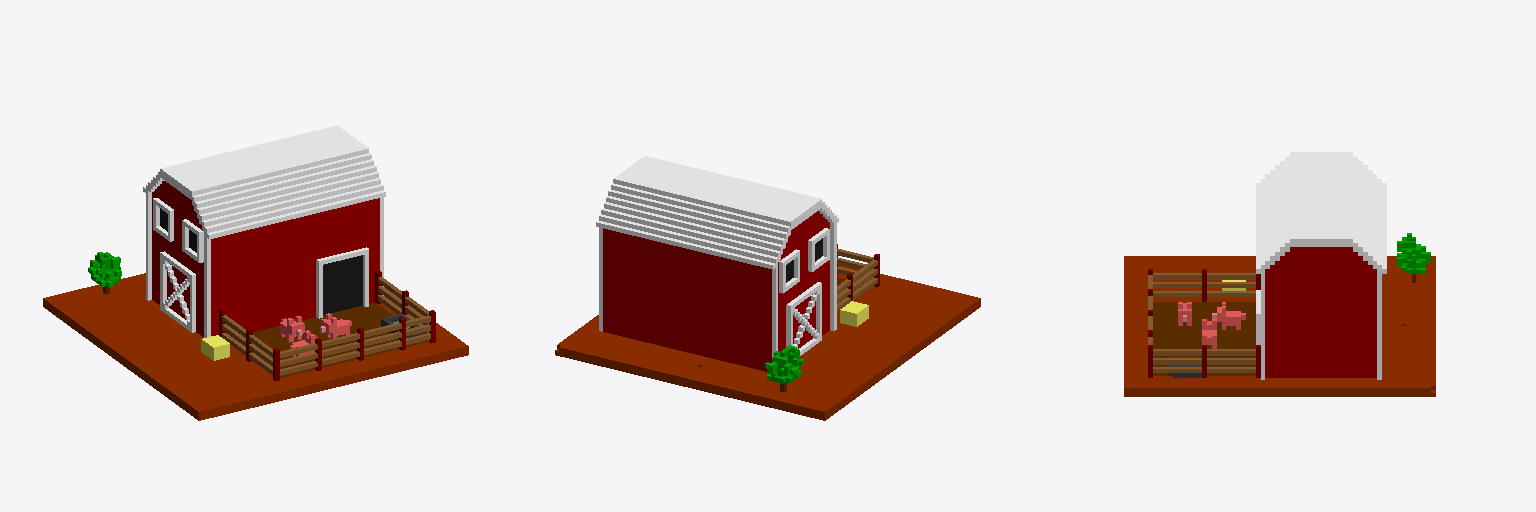
The picture shows the model from 3 angles: view 1: azimuth 30°, elevation 25°; view 2: azimuth 150°, elevation 25°; view 3: azimuth 270°, elevation 25°; orthographic projection.
Parts seen in each view (by area): view 1: farm; view 2: farm; view 3: farm.
Part boxes in pixels (x1,y1,x2,y2): farm: (43,125,468,420); farm: (555,156,980,420); farm: (1124,152,1435,396).
Size of the model in its own units: 64 by 34 by 64.
Materials: 1 (1 with a texture image).